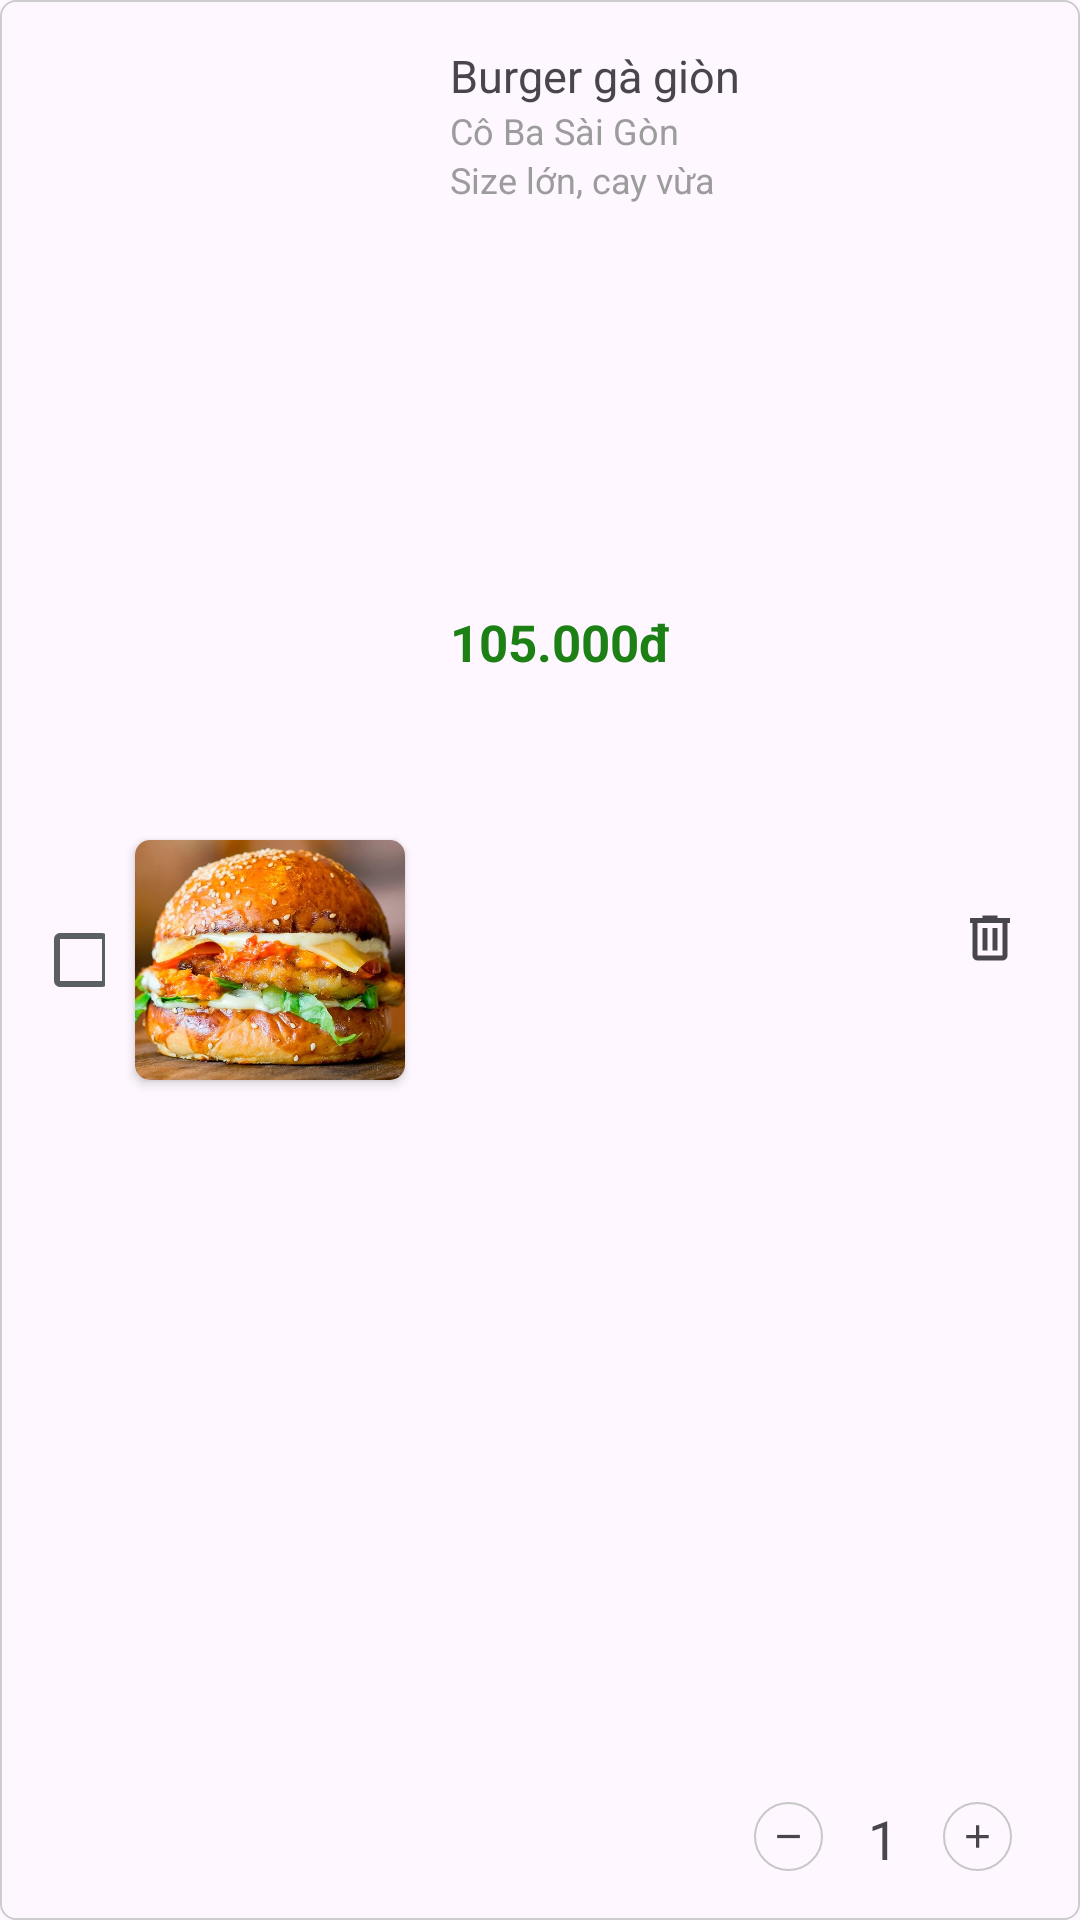

Where icons sit on this 1080px×1920px app screen, as Rect(x1, y1, x2, y2):
burger ga ngon: Rect(135, 840, 405, 1080)
shoppingcart giamsoluongmonan: Rect(754, 1802, 823, 1871)
shoppingcart item checkbox: Rect(54, 933, 105, 987)
shoppingcart tangsoluong monan: Rect(943, 1802, 1012, 1871)
shoppingcart xoa mon an: Rect(970, 915, 1010, 961)
